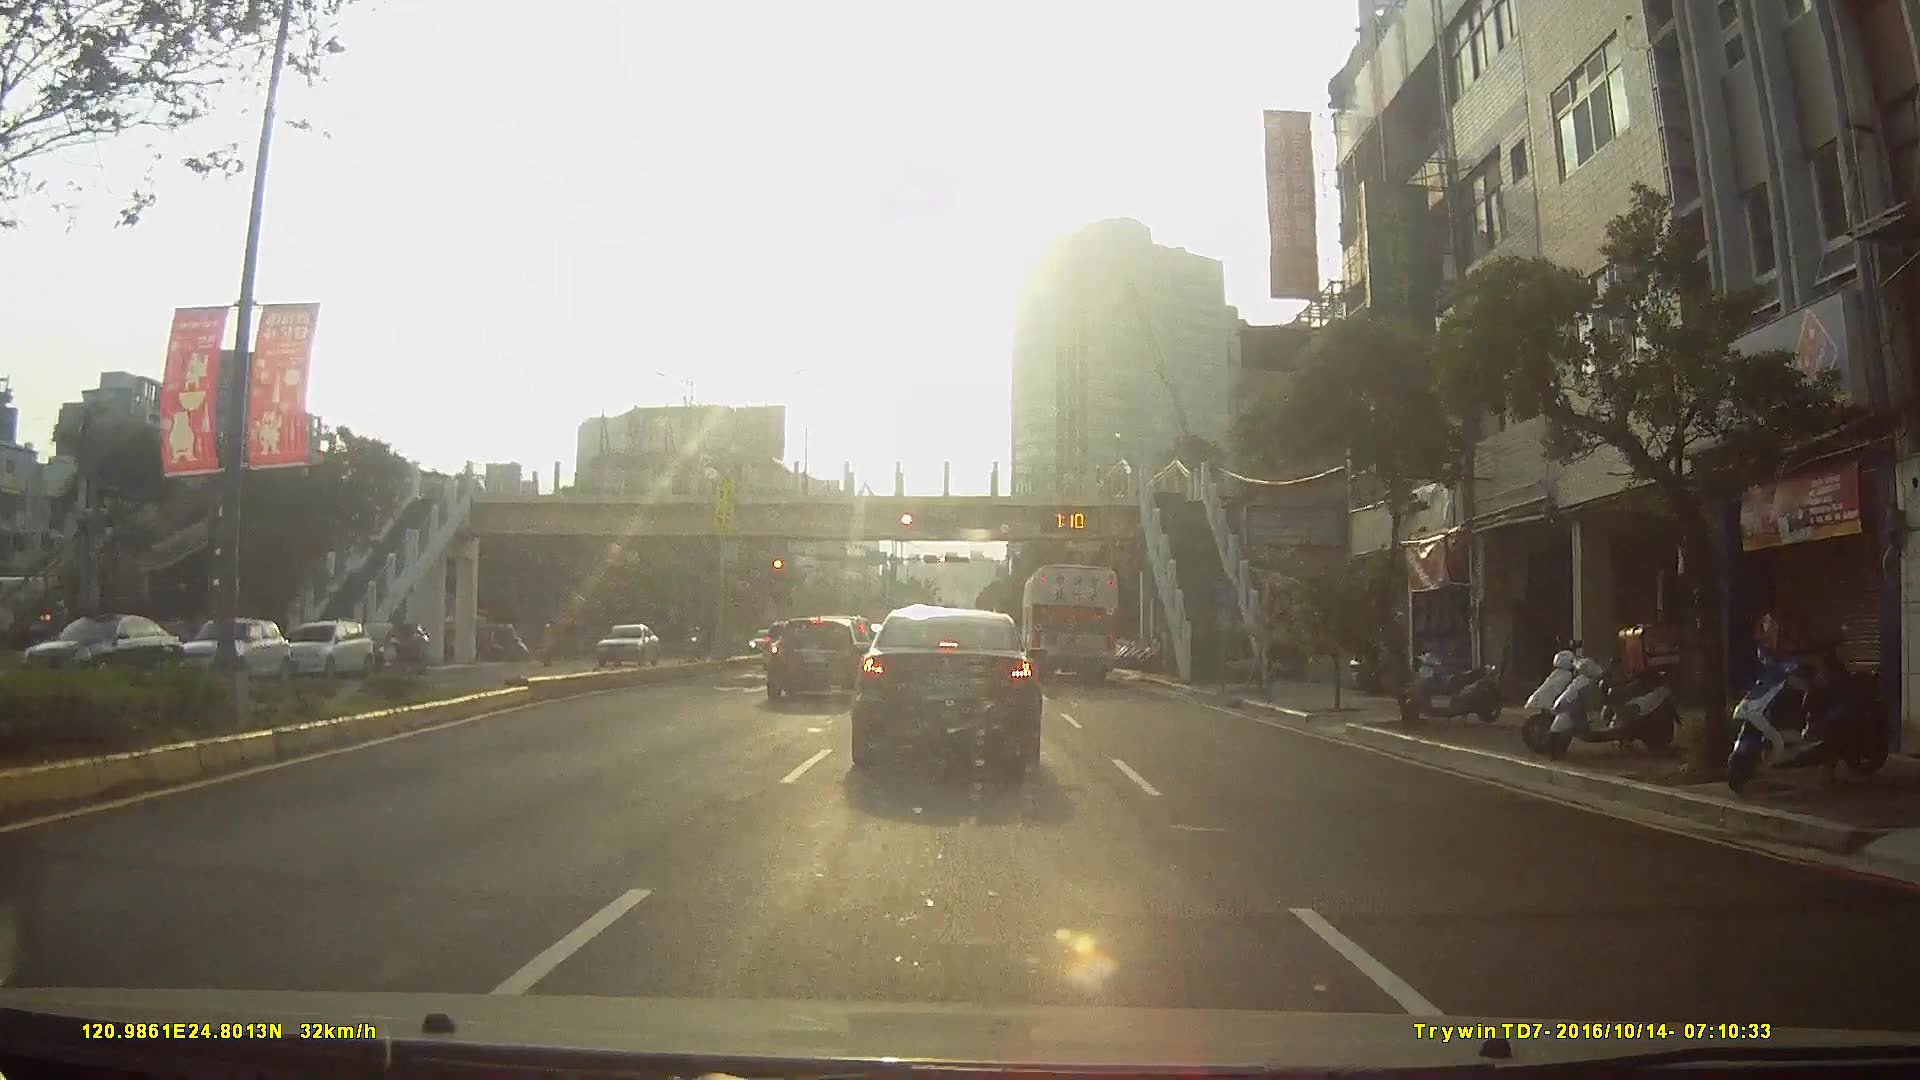rider: (373, 615, 422, 690)
vehicle: (847, 602, 1046, 769), (1019, 560, 1121, 682), (17, 611, 179, 686), (761, 613, 871, 702), (167, 616, 286, 684), (273, 617, 373, 676), (350, 618, 428, 676), (588, 620, 655, 667)
